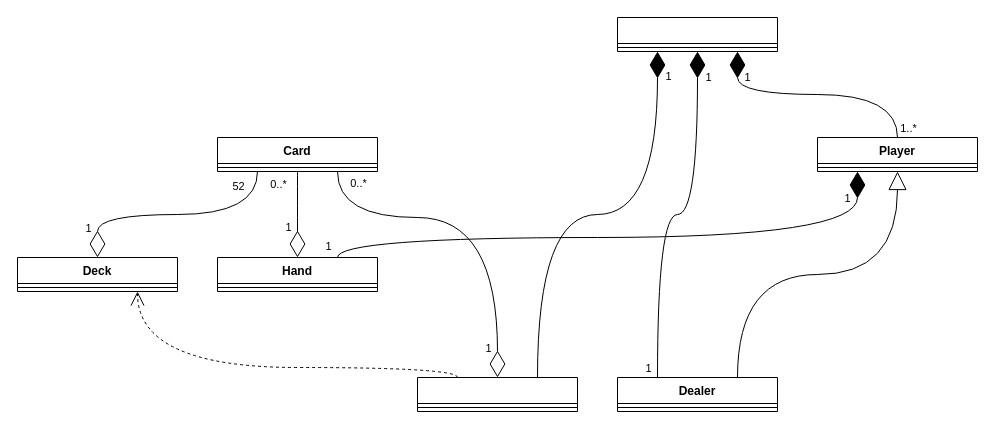
The diagram is 995 pixels wide and 429 high, and some of its shapes have lost their labels. The centre of each missing label's shape, as x and y in pixels:
"BlackJack" belongs at point (697, 34).
"DeckPile" belongs at point (497, 394).
